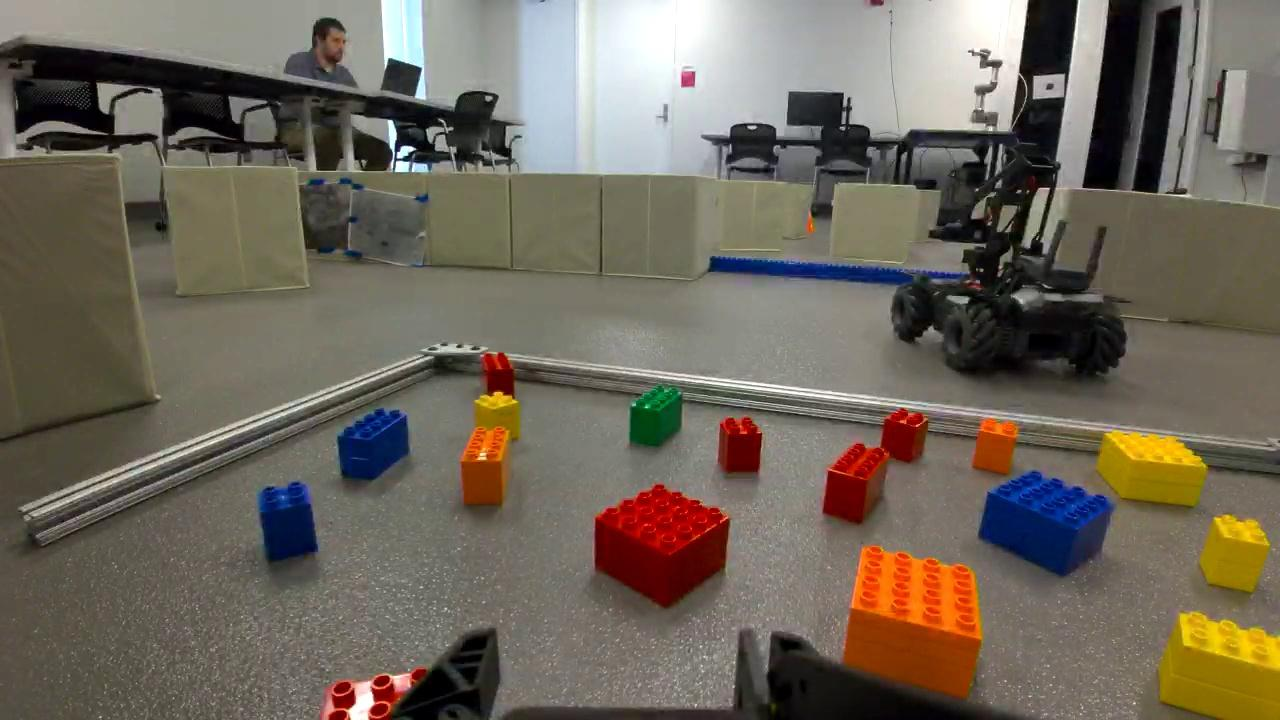2x2lego: (1198, 516, 1271, 596), (259, 479, 320, 563), (714, 414, 767, 476), (883, 407, 928, 463), (974, 417, 1018, 473), (474, 393, 522, 428)
2x4lego: (1155, 608, 1280, 720), (823, 441, 894, 527), (336, 404, 411, 481), (458, 427, 510, 504), (627, 383, 685, 447), (477, 351, 518, 403)
4x4lego: (839, 541, 984, 699), (590, 481, 732, 612), (976, 468, 1116, 576), (1096, 429, 1208, 511)
